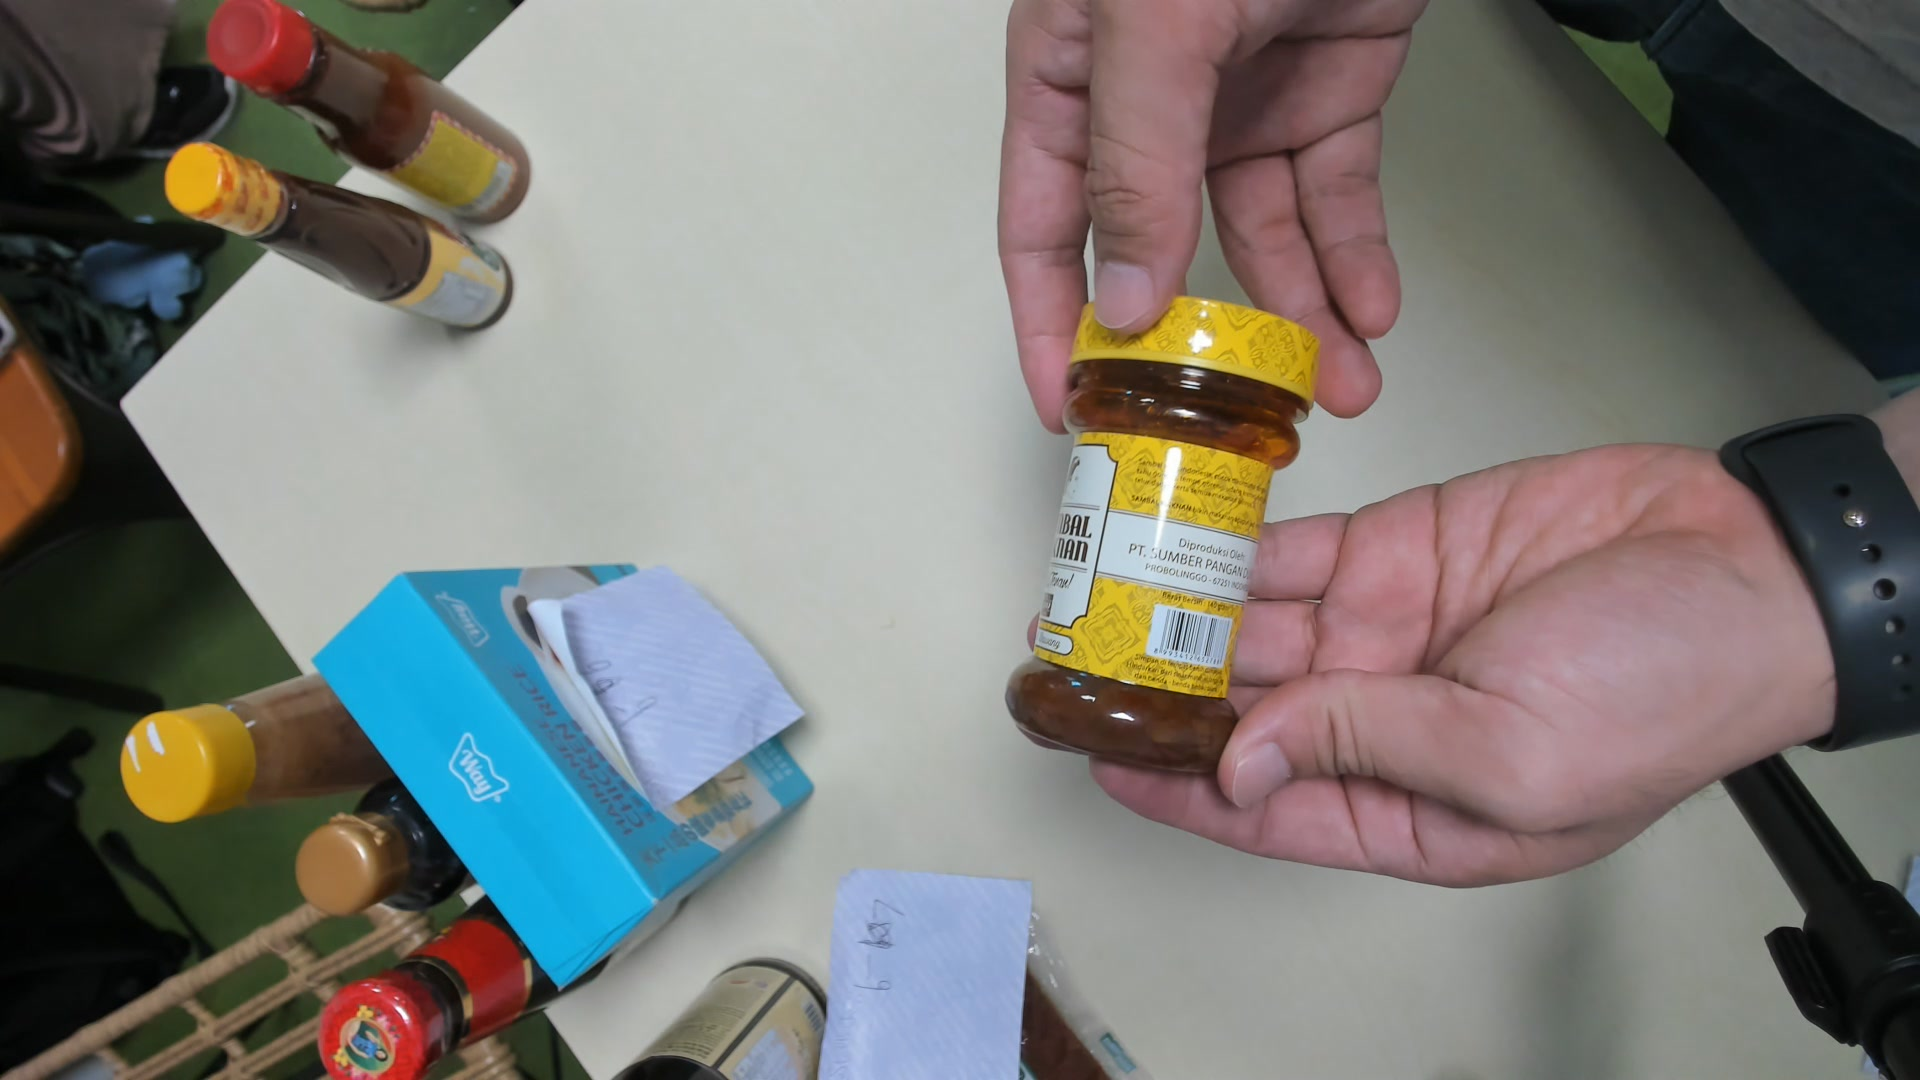KetchupChillSauce_100-199g_Halal_NonHealthy: (1011, 287, 1319, 766)
